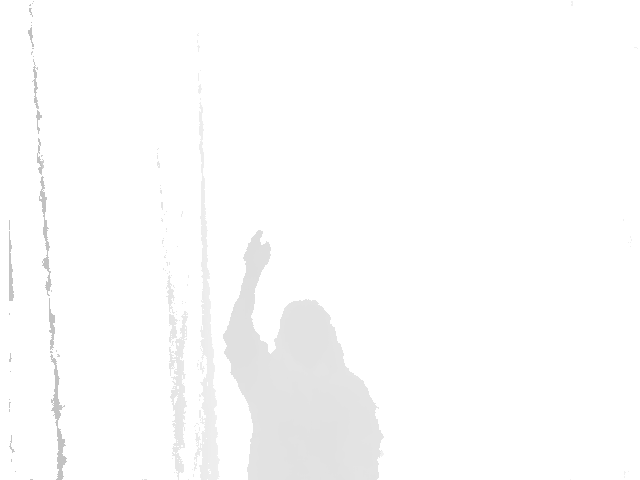hand: (243, 230, 272, 277)
head: (274, 300, 338, 371)
person: (222, 231, 386, 480)
